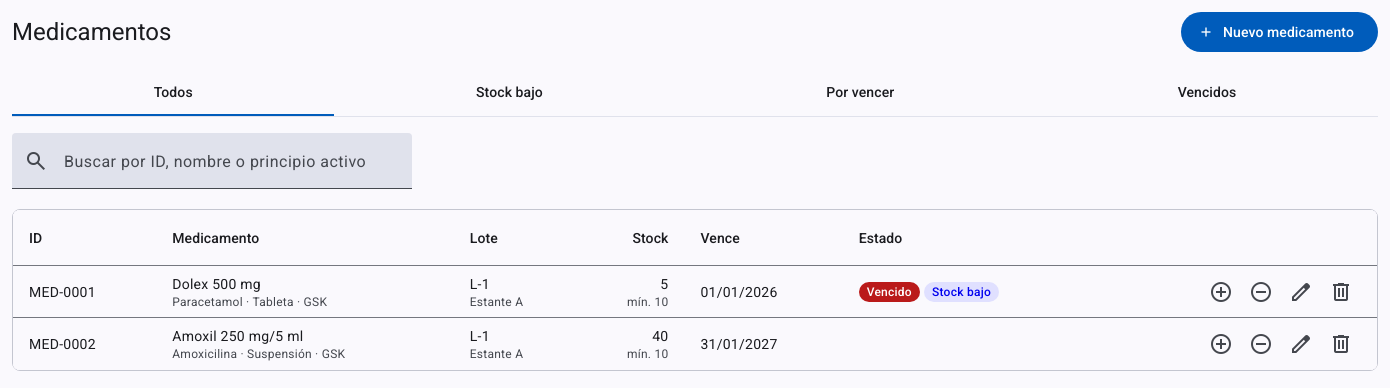
Test: MedicamentosListaComponent › no consulta con días fuera de 1 a 365 y lo indica
The width and height of the screenshot is (1390, 388).
Click the tab "Por vencer".
click(860, 92)  # box x1=684 y1=68 x2=1036 y2=116
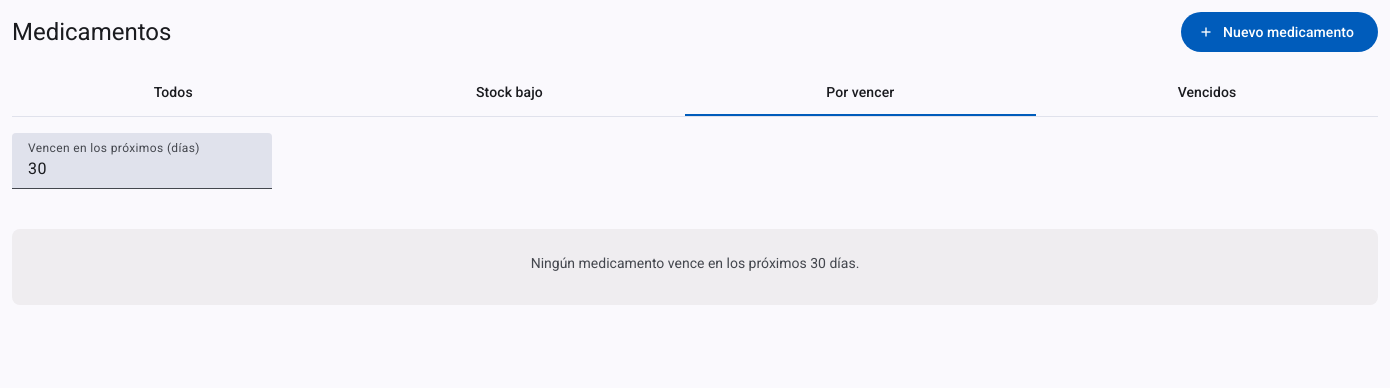
Replace the text in the number field labelled "Vencen en los próximos (días)" with "400" at (142, 169), box x1=28 y1=157 x2=256 y2=181
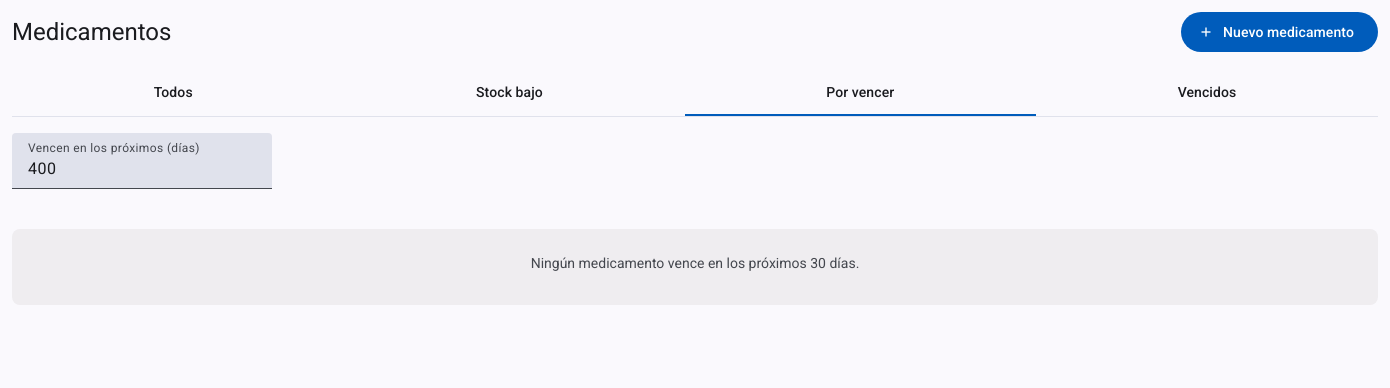
Leave the number field labelled "Vencen en los próximos (días)", box x1=28 y1=157 x2=256 y2=181
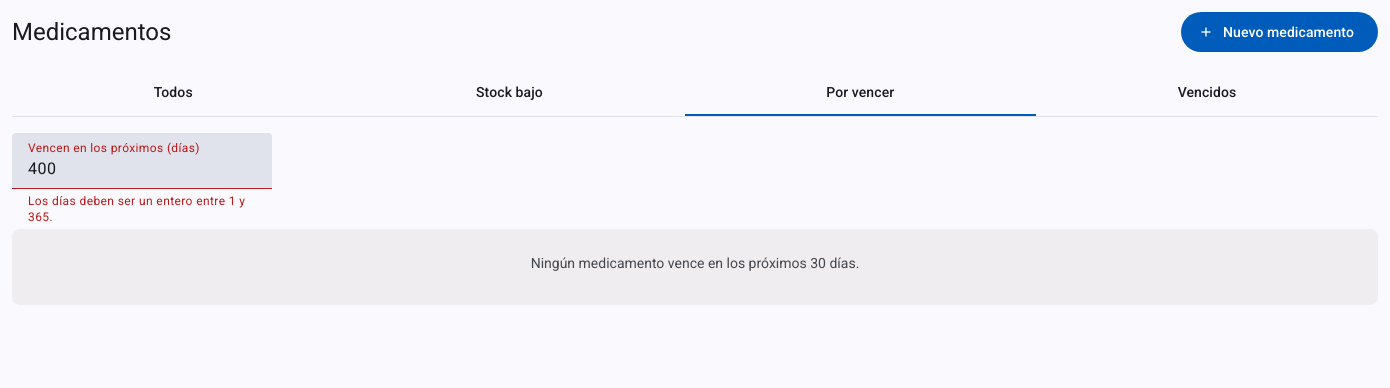
Now the text "Los días deben ser un entero entre 1 y 365." is shown, box x1=28 y1=189 x2=256 y2=225
